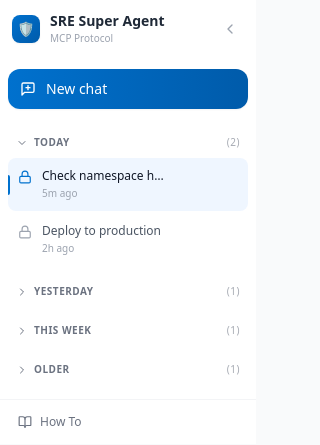
Test: Sidebar › hides header text when collapsed
Click the button titled "Collapse sidebar". click: (230, 28)
box: [216, 14, 244, 42]
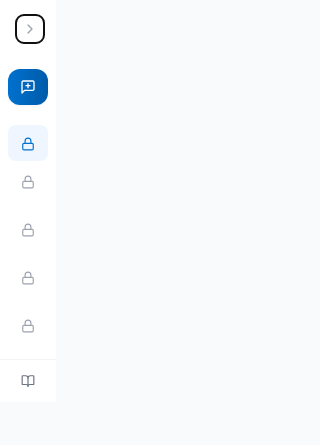
Expected: the text "SRE Super Agent" is gone
